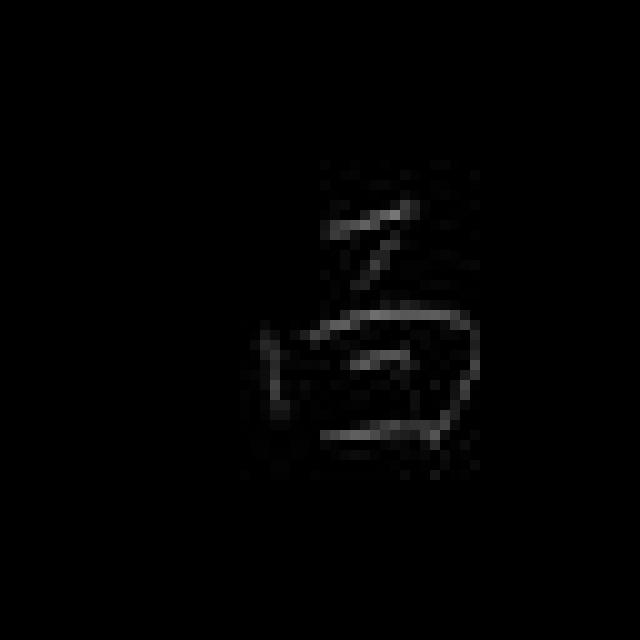100 -a hundred-: (253, 184, 492, 458)
